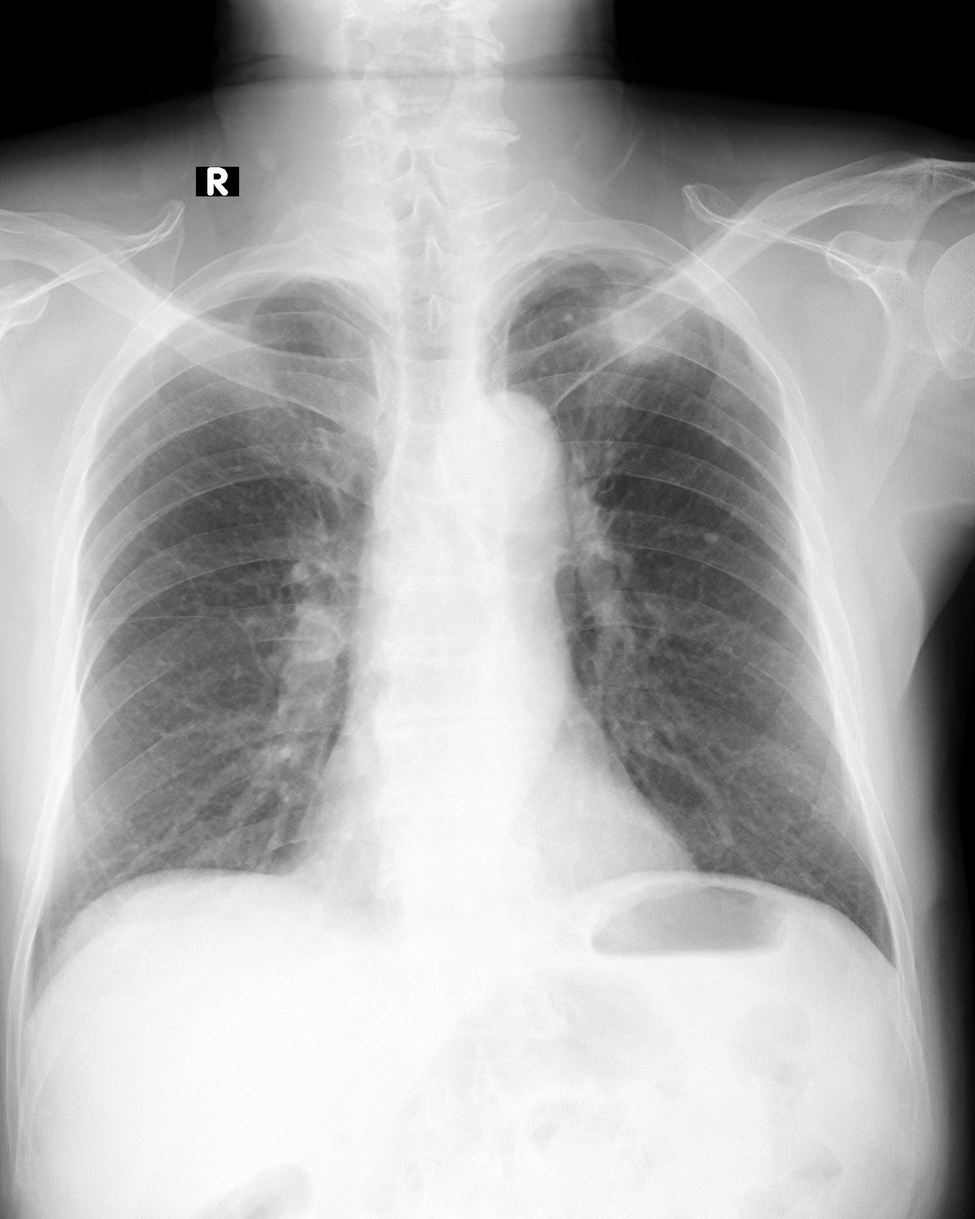Aortic enlargement: (435, 389, 570, 513)
Pleural thickening: (206, 262, 353, 291), (487, 241, 622, 268)
